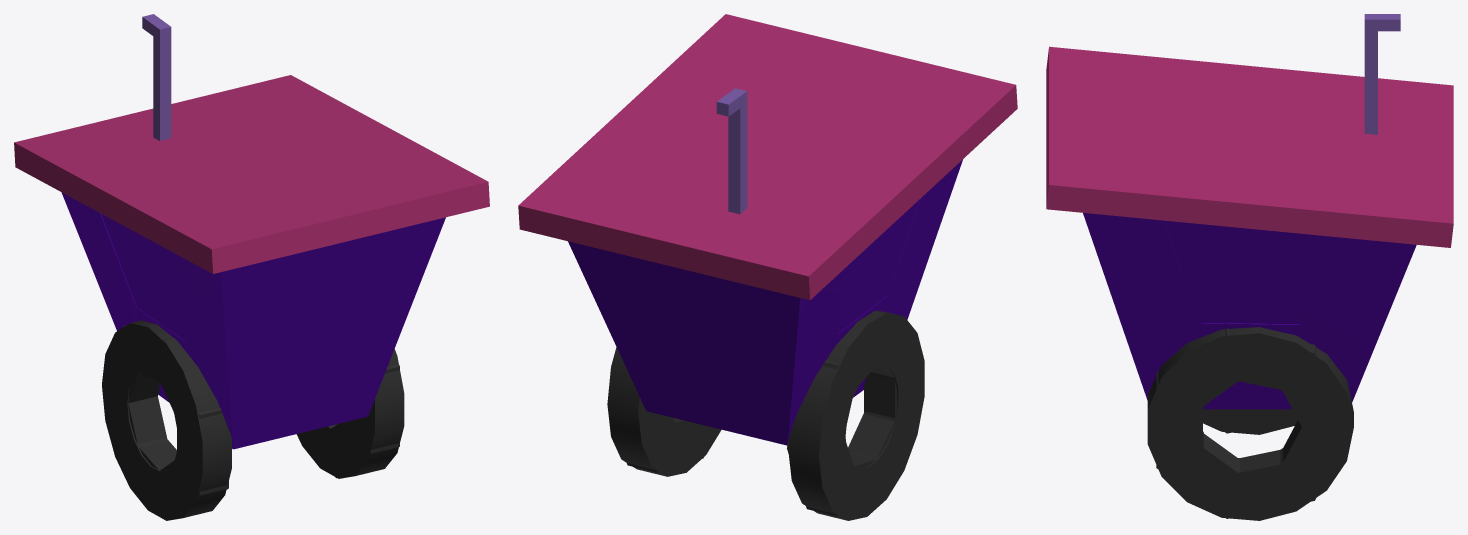
The model's file is car02.fbx.
The picture shows the model from 3 angles, left to right: view 1: azimuth 30°, elevation 25°; view 2: azimuth 150°, elevation 25°; view 3: azimuth 270°, elevation 25°; orthographic projection. The views are drawn at different scales.
Visible parts, largest first — view 1: hp_car02_mvg, mp_car02_mvg; view 2: hp_car02_mvg, mp_car02_mvg; view 3: mp_car02_mvg, hp_car02_mvg.
Boxes of the visible parts, bbox=[...] form: hp_car02_mvg: bbox=[61, 14, 483, 520]; mp_car02_mvg: bbox=[14, 75, 489, 495]; hp_car02_mvg: bbox=[524, 18, 1013, 520]; mp_car02_mvg: bbox=[518, 14, 1017, 516]; mp_car02_mvg: bbox=[1046, 46, 1453, 518]; hp_car02_mvg: bbox=[1047, 14, 1446, 520].
Bounding box in the file's own units: 189 × 279 × 235.
